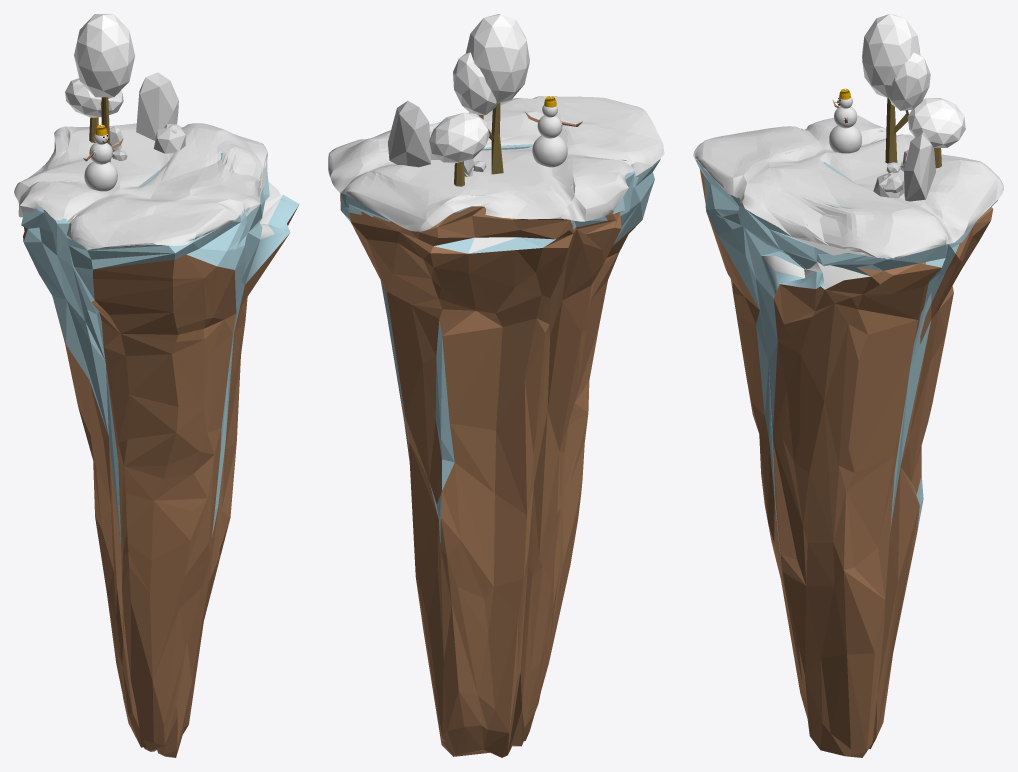
The model's file is rock10.fbx.
3 views of the same model, side by side, from view 1: azimuth 30°, elevation 25°; view 2: azimuth 150°, elevation 25°; view 3: azimuth 270°, elevation 25° (orthographic). The views are drawn at different scales.
Visible parts, largest first — view 1: rock2, Cylinder.010, Icosphere.054, Cylinder, Cylinder.011, Icosphere.057; view 2: rock2, Cylinder.010, Cylinder.011, Icosphere.054, Cylinder; view 3: rock2, Cylinder.010, Cylinder.011, Icosphere.054, Cylinder, Icosphere.057.
Part boxes in pixels (bbox=[...]): rock2: bbox=[14, 123, 299, 757]; Cylinder.010: bbox=[74, 14, 135, 162]; Icosphere.054: bbox=[136, 72, 178, 140]; Cylinder: bbox=[83, 124, 123, 191]; Cylinder.011: bbox=[65, 78, 123, 142]; Icosphere.057: bbox=[153, 124, 185, 153]; rock2: bbox=[328, 96, 664, 757]; Cylinder.010: bbox=[453, 14, 529, 174]; Cylinder.011: bbox=[429, 112, 489, 186]; Icosphere.054: bbox=[388, 101, 430, 167]; Cylinder: bbox=[525, 96, 582, 167]; rock2: bbox=[693, 115, 1003, 757]; Cylinder.010: bbox=[862, 14, 930, 163]; Cylinder.011: bbox=[907, 98, 965, 168]; Icosphere.054: bbox=[903, 131, 935, 201]; Cylinder: bbox=[829, 88, 861, 153]; Icosphere.057: bbox=[873, 172, 903, 198].
Size of the model in its own units: 334 by 882 by 346.
